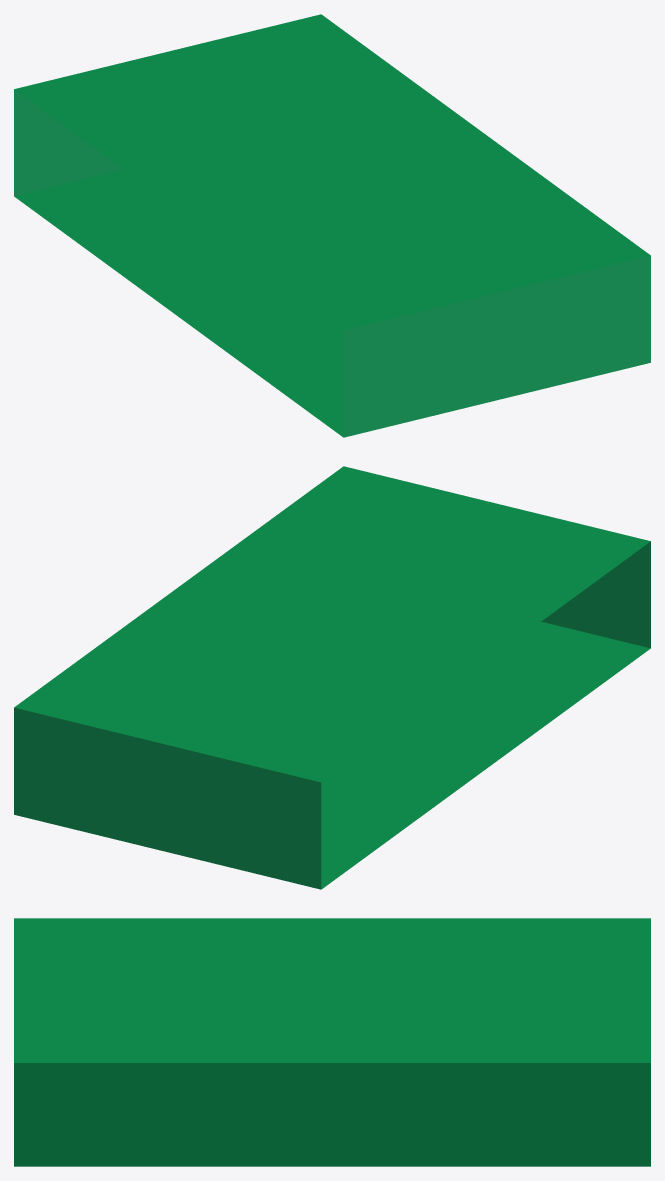
File: dino-mouth.fbx
3 renders of one model, top to bottom at view 1: azimuth 30°, elevation 25°; view 2: azimuth 150°, elevation 25°; view 3: azimuth 270°, elevation 25°, orthographic. The views are drawn at different scales.
Parts seen in each view (by area): view 1: polySurface12; view 2: polySurface12; view 3: polySurface12.
Part boxes in pixels (bbox=[...]): polySurface12: bbox=[14, 14, 650, 437]; polySurface12: bbox=[14, 466, 650, 889]; polySurface12: bbox=[14, 918, 650, 1166].
Bounding box in the file's own units: 0.12 × 0.04 × 0.2229.
1 material, 1 textured.
